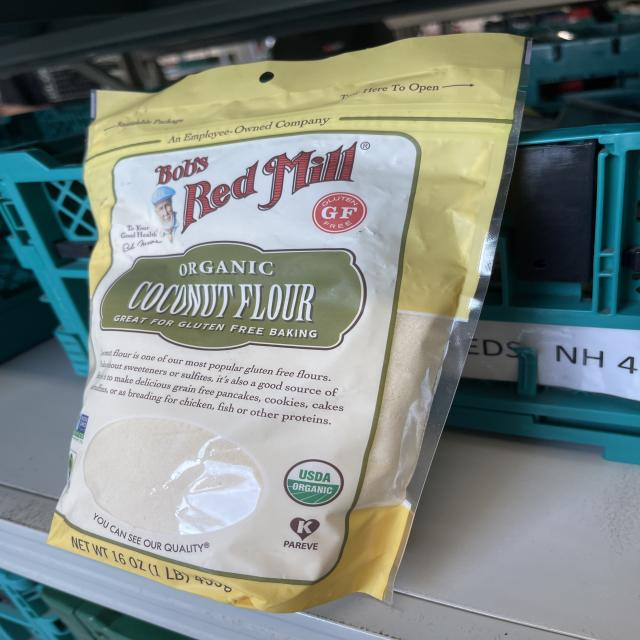object_name: (101, 79, 384, 589)
